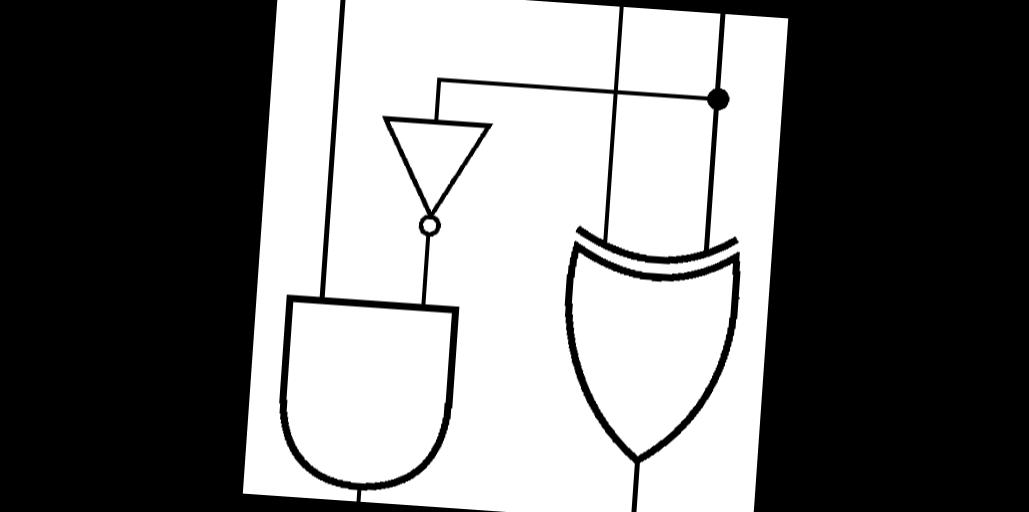and: (264, 284, 468, 504)
not: (368, 102, 499, 243)
xor: (542, 208, 752, 481)
